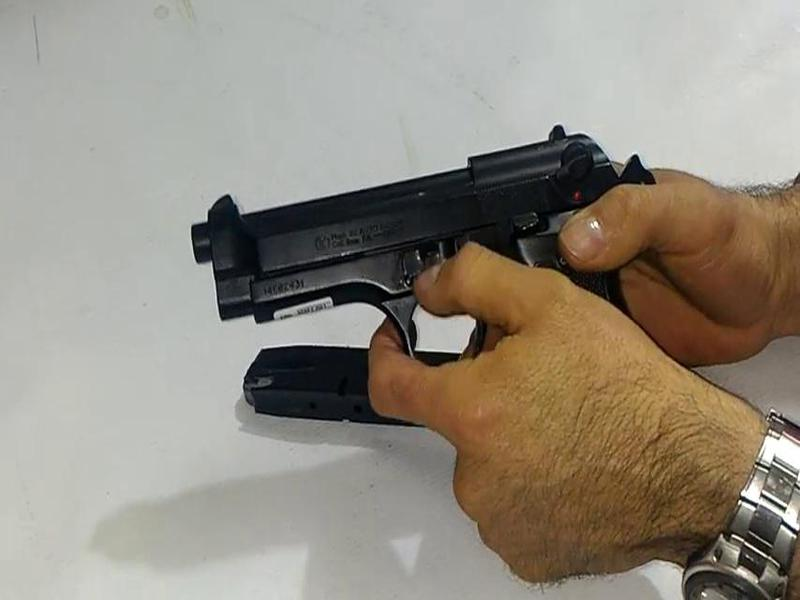Pistola: (201, 101, 691, 477)
